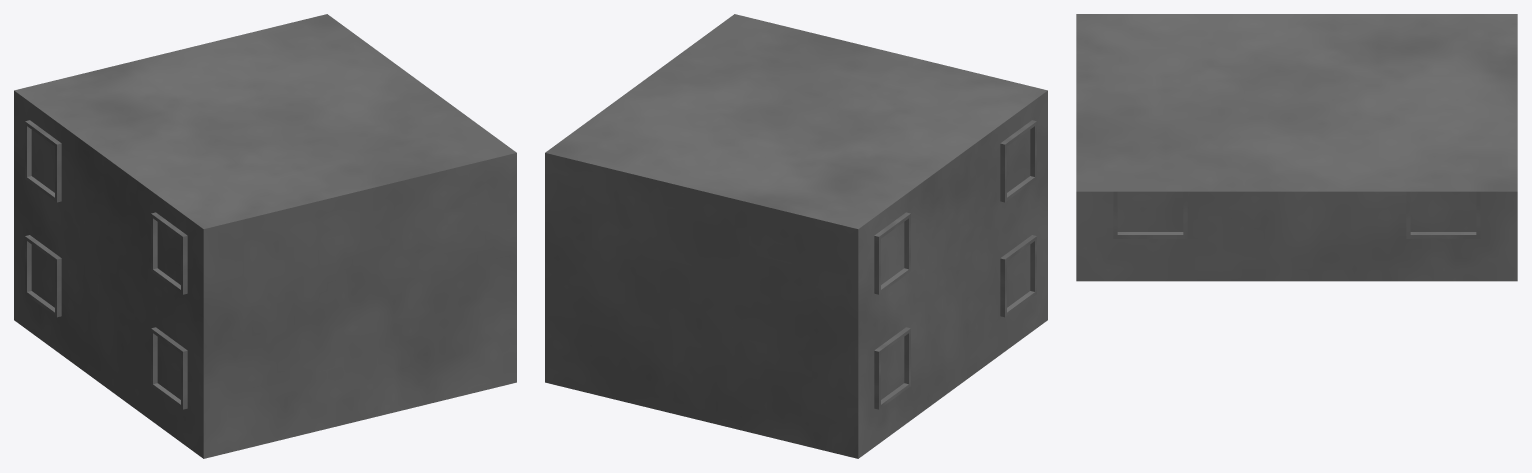
Rendered from Blocos 5.fbx.
3 renders of one model, left to right at view 1: azimuth 30°, elevation 25°; view 2: azimuth 150°, elevation 25°; view 3: azimuth 270°, elevation 25°, orthographic. The views are drawn at different scales.
Parts seen in each view (by area): view 1: Predio02; view 2: Predio02; view 3: Predio02.
Part boxes in pixels (<box>): Predio02: <box>14,14,516,458</box>; Predio02: <box>545,14,1047,458</box>; Predio02: <box>1076,14,1517,281</box>.
Bounding box in the file's own units: 1353 × 933 × 1397.
